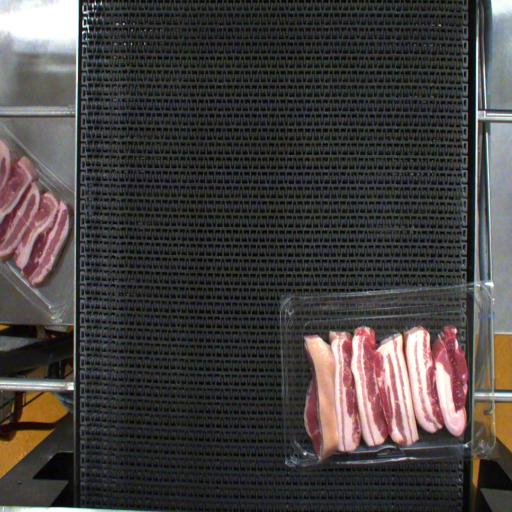twisted-meat: (308, 338, 342, 469)
